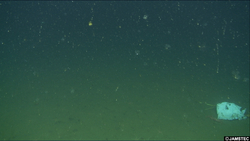plastic bag: (212, 101, 247, 123)
